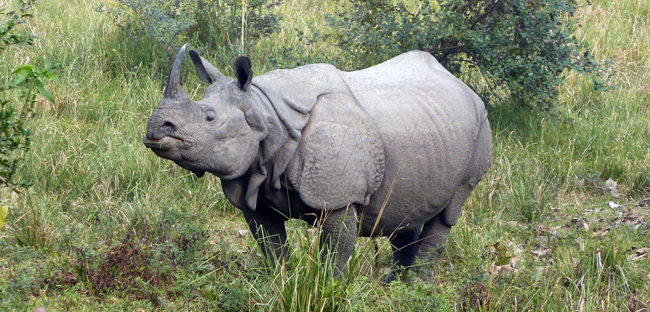rhinoceros: (142, 42, 497, 279)
